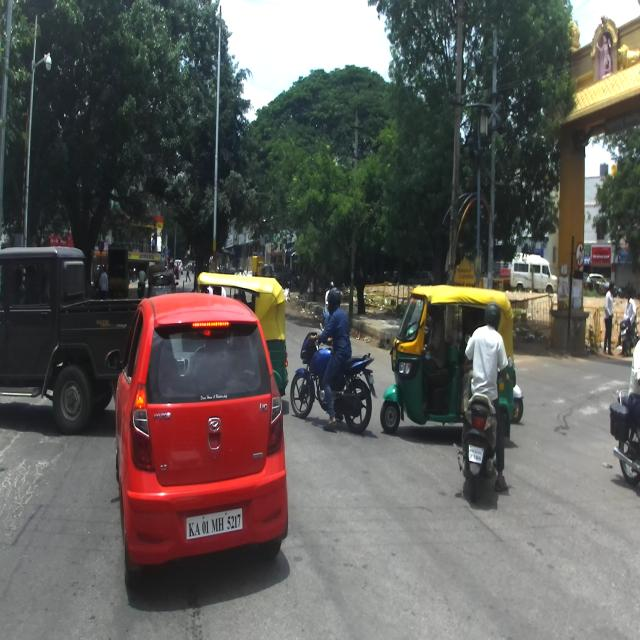auto ahead at: (380, 274, 510, 442)
car ahead at: (120, 291, 290, 584), (2, 242, 118, 438)
motorcycle ahead at: (294, 330, 376, 450), (450, 392, 501, 512)
